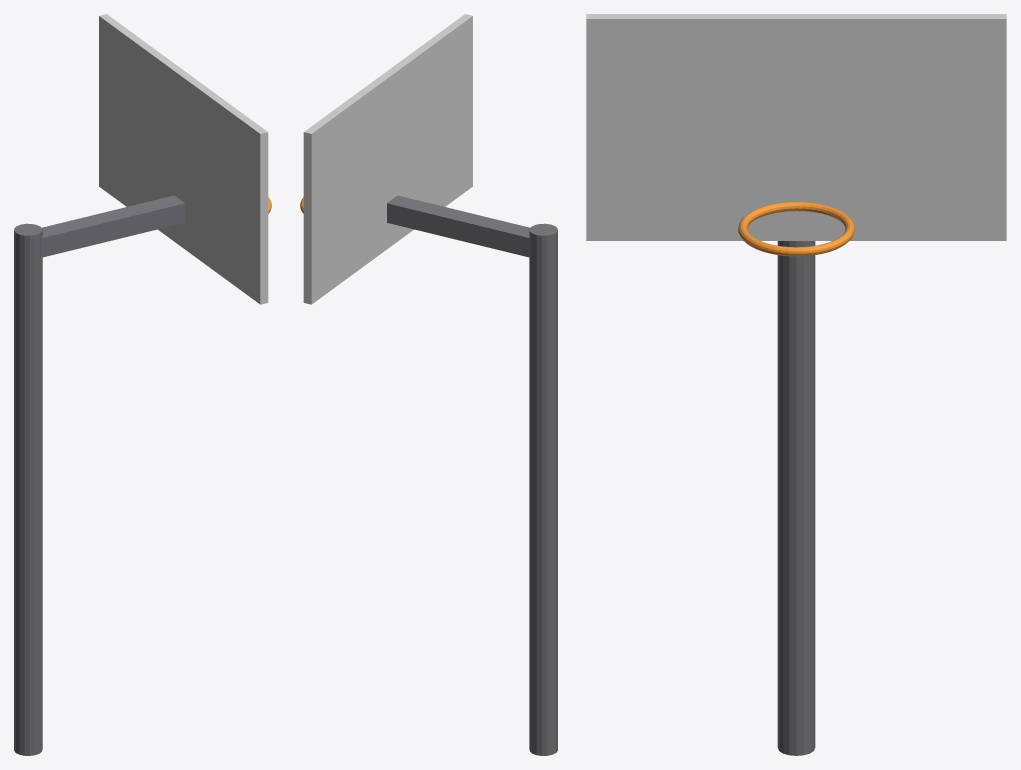
The model's file is hoop.glb.
The picture shows the model from 3 angles, left to right: view 1: azimuth 30°, elevation 25°; view 2: azimuth 150°, elevation 25°; view 3: azimuth 270°, elevation 25°; orthographic projection. The views are drawn at different scales.
Parts seen in each view (by area): view 1: HoopBoard, HoopPole, HoopArm; view 2: HoopBoard, HoopPole, HoopArm; view 3: HoopBoard, HoopPole, HoopRim.
Part boxes in pixels (left/top/right/bottom): HoopBoard: left=99, top=14, right=268, bottom=304; HoopPole: left=14, top=223, right=42, bottom=755; HoopArm: left=41, top=195, right=184, bottom=257; HoopBoard: left=303, top=14, right=472, bottom=304; HoopPole: left=529, top=223, right=557, bottom=755; HoopArm: left=387, top=195, right=530, bottom=257; HoopBoard: left=586, top=14, right=1006, bottom=240; HoopPole: left=777, top=241, right=815, bottom=755; HoopRim: left=738, top=202, right=854, bottom=256.
Bounding box in the file's own units: 1.61 × 3.93 × 1.8.
